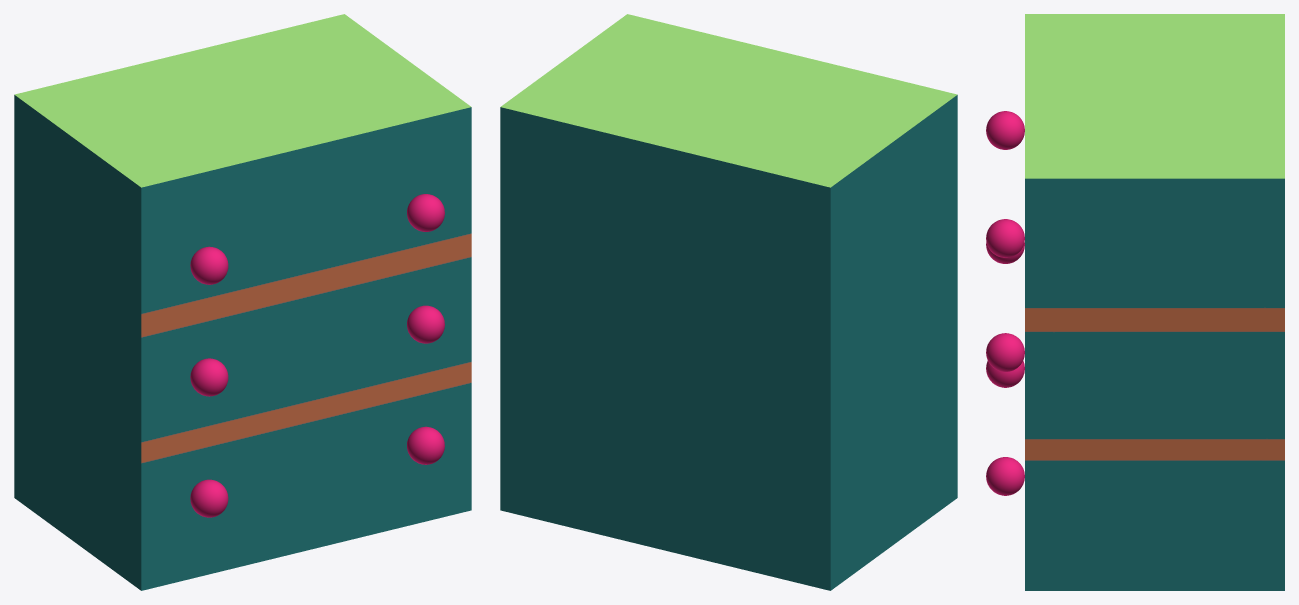
File: muebletele.FBX
The picture shows the model from 3 angles, left to right: view 1: azimuth 30°, elevation 25°; view 2: azimuth 150°, elevation 25°; view 3: azimuth 270°, elevation 25°; orthographic projection. The views are drawn at different scales.
Visible parts, largest first — view 1: Sphere004; view 2: Sphere004; view 3: Sphere004.
Boxes of the visible parts, left/top/right/bottom form: Sphere004: left=14, top=14, right=471, bottom=590; Sphere004: left=500, top=14, right=957, bottom=590; Sphere004: left=986, top=14, right=1284, bottom=590.
Size of the model in its own units: 60 by 70 by 46.
